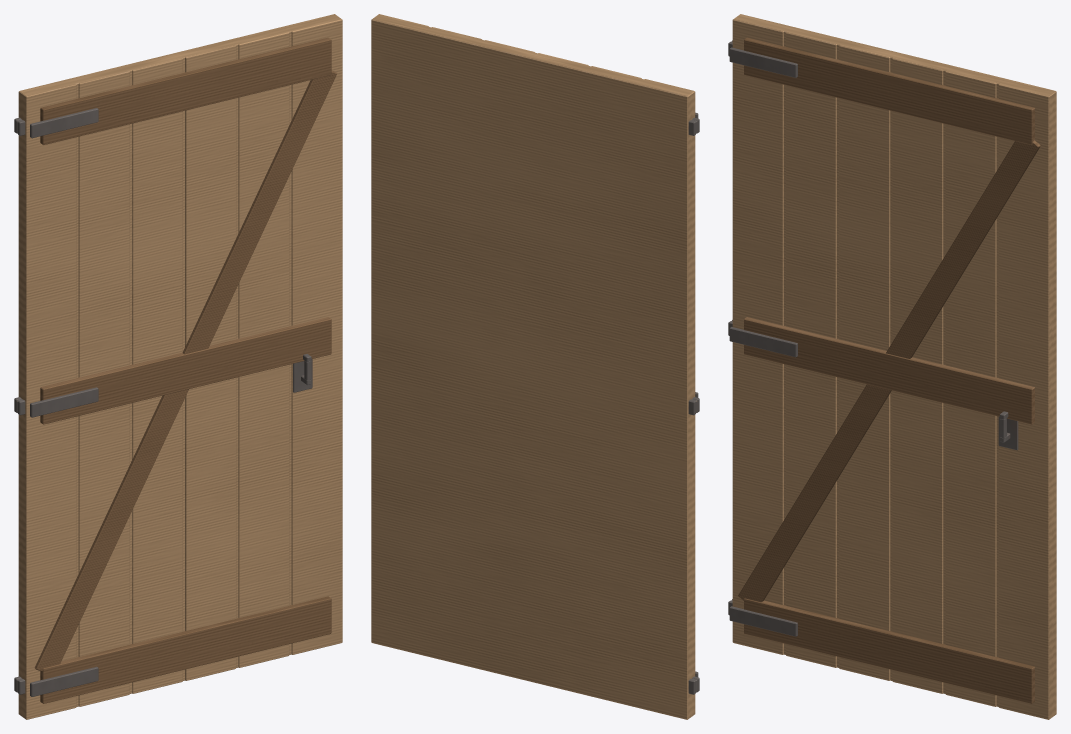
File: door_plank.glb
3 renders of one model, left to right at view 1: azimuth 30°, elevation 25°; view 2: azimuth 150°, elevation 25°; view 3: azimuth 330°, elevation 25°, orthographic.
Visible parts, largest first — view 1: door_plank; view 2: door_plank; view 3: door_plank.
Part boxes in pixels (<box>): door_plank: <box>14,14,342,719</box>; door_plank: <box>371,14,699,719</box>; door_plank: <box>728,14,1056,719</box>.
Bounding box in the file's own units: 1.04 × 1.92 × 0.082.
Materials: 1 (1 with a texture image).
